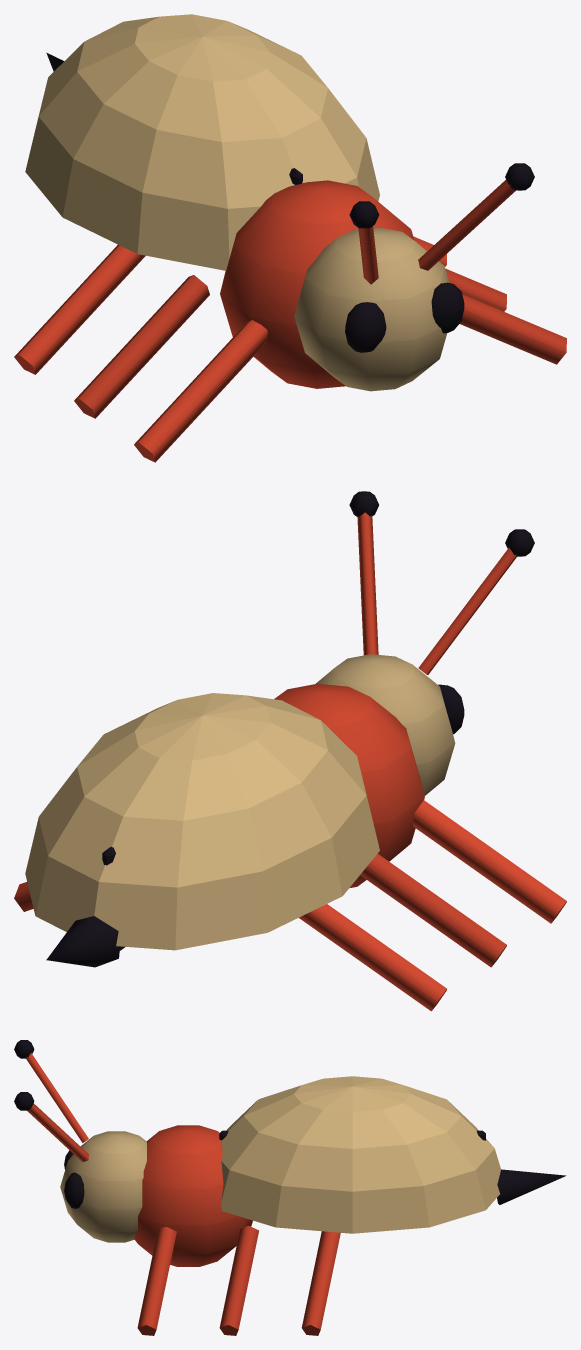
The model's file is monster_scorpion.glb.
3 views of the same model, one above another, from view 1: azimuth 30°, elevation 25°; view 2: azimuth 150°, elevation 25°; view 3: azimuth 270°, elevation 25° (orthographic). The views are drawn at different scales.
Visible parts, largest first — view 1: body_t0_palette; view 2: body_t0_palette; view 3: body_t0_palette.
Part boxes in pixels (x1=…): body_t0_palette: x1=14, y1=14, x2=566, y2=462; body_t0_palette: x1=14, y1=491, x2=566, y2=1011; body_t0_palette: x1=14, y1=1040, x2=566, y2=1335.
Bounding box in the file's own units: 0.3299 × 0.217 × 0.5389.
